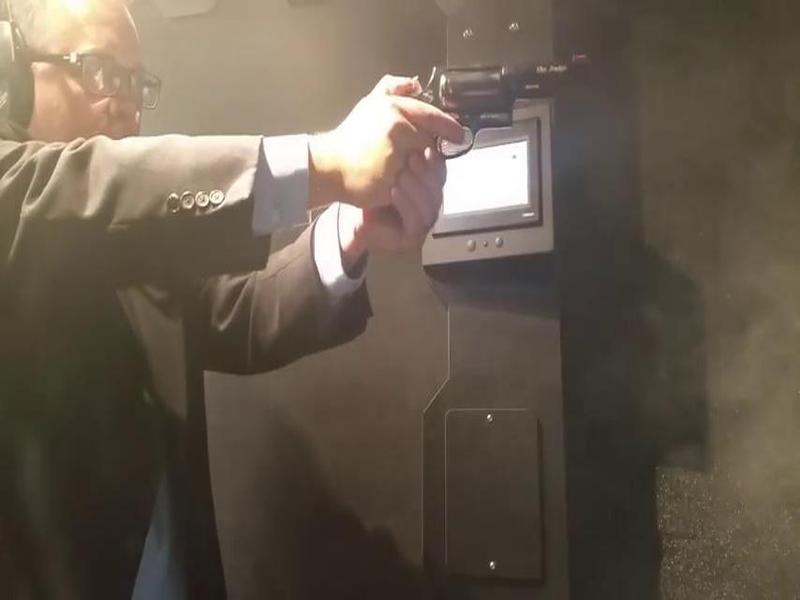Revolver: (373, 42, 588, 189)
